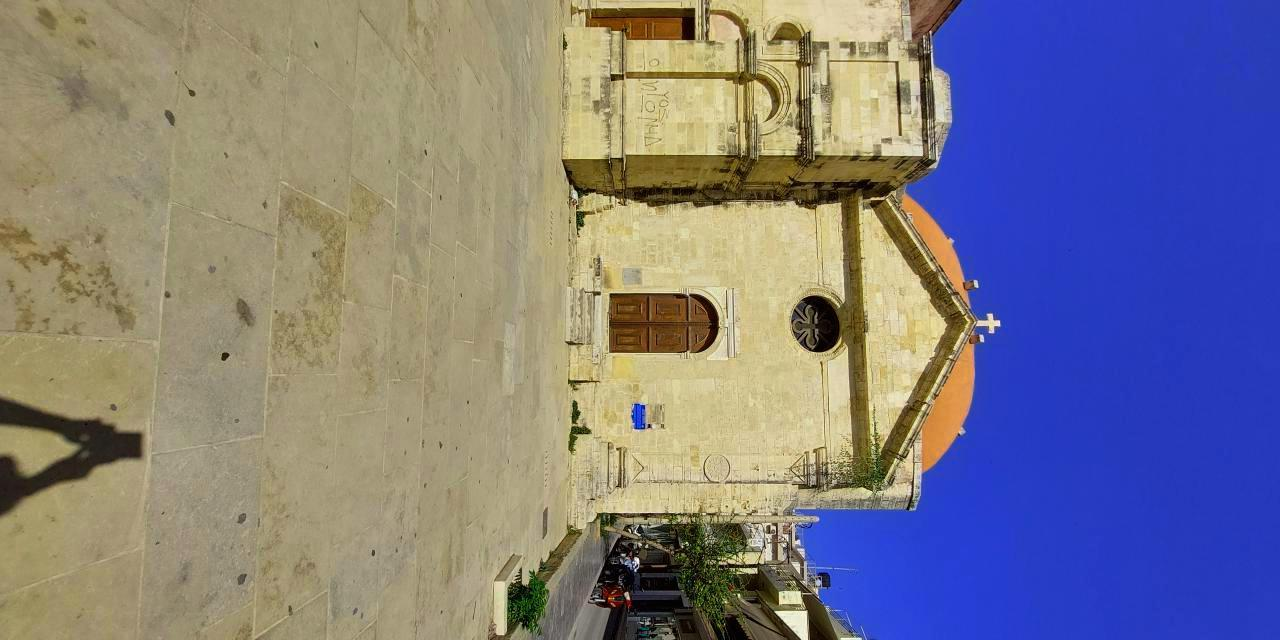Agia Aikaterini: (552, 188, 1008, 525)
